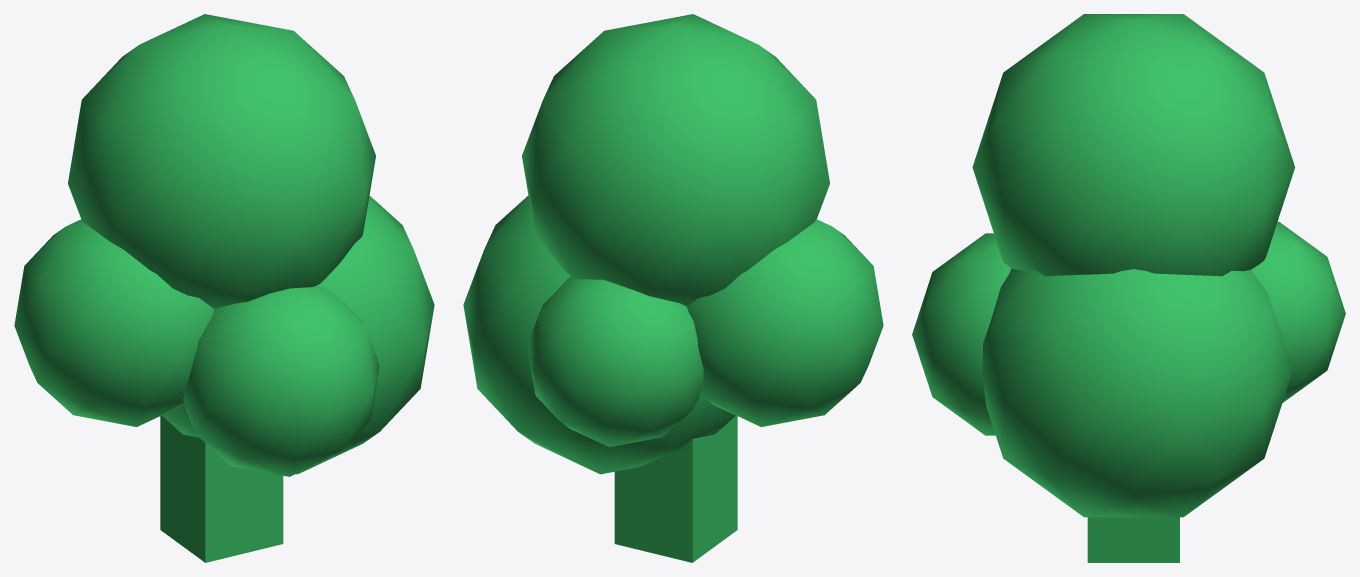
The model's file is tree.glb.
3 renders of one model, left to right at view 1: azimuth 30°, elevation 25°; view 2: azimuth 150°, elevation 25°; view 3: azimuth 270°, elevation 25°, orthographic. The views are drawn at different scales.
Parts seen in each view (by area): view 1: Cone-col; view 2: Cone-col; view 3: Cone-col.
Boxes of the visible parts, left/top/right/bottom form: Cone-col: left=14, top=14, right=434, bottom=562; Cone-col: left=463, top=14, right=883, bottom=562; Cone-col: left=912, top=14, right=1345, bottom=562.
Size of the model in its own units: 1.94 by 2.5 by 1.88.
